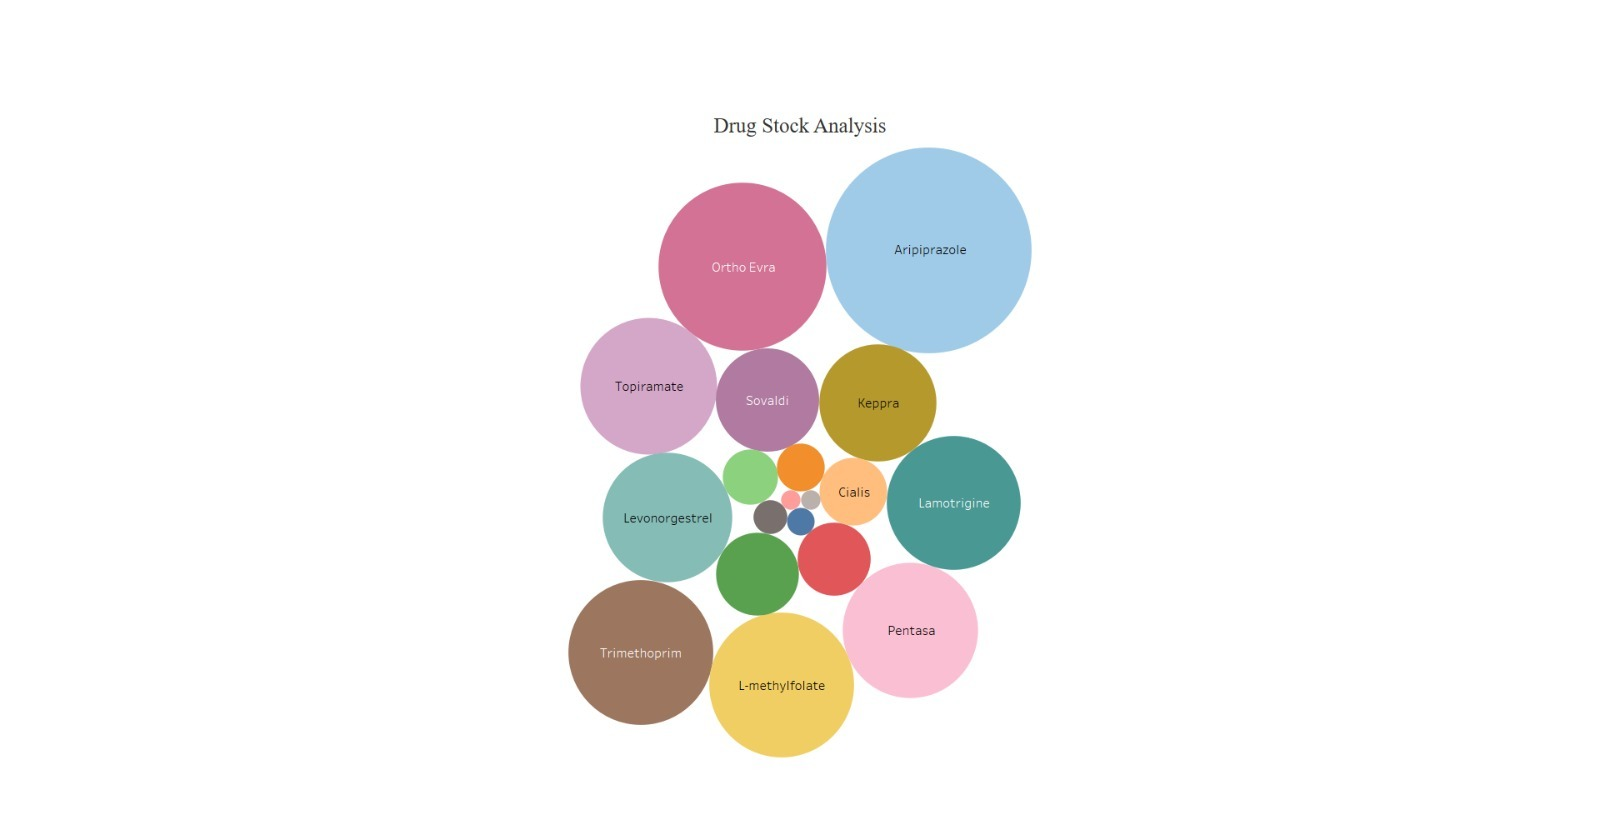

The page's visual inventory and layout, read from the dashboard file:
{"tool":"tableau","page":{"name":"DRUG STOCK ANALYSIS","canvas":[1000,800],"ordinal":0},"visuals":[{"type":"worksheet","title":"Sheet 1","mark":"Circle","box":[8,8,984,784]}]}

Visuals, with their boxes on the page's 1000x800 design canvas (x1, y1, x2, y2). These are canvas units, not pixel positions in the 1600x831 screenshot, which may show the page scaled, cropped or inside an application window:
"Sheet 1" worksheet (Circle marks): l=8, t=8, r=992, b=792
